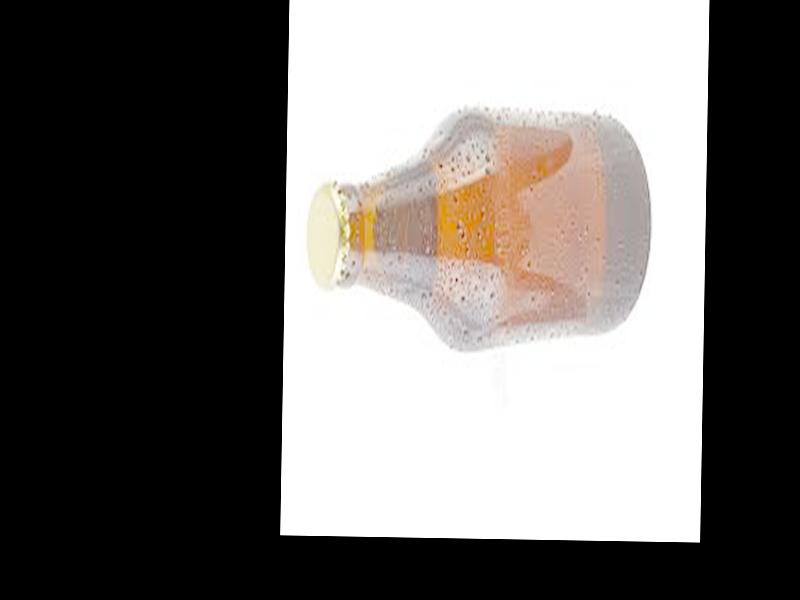Beer: (305, 110, 651, 336)
